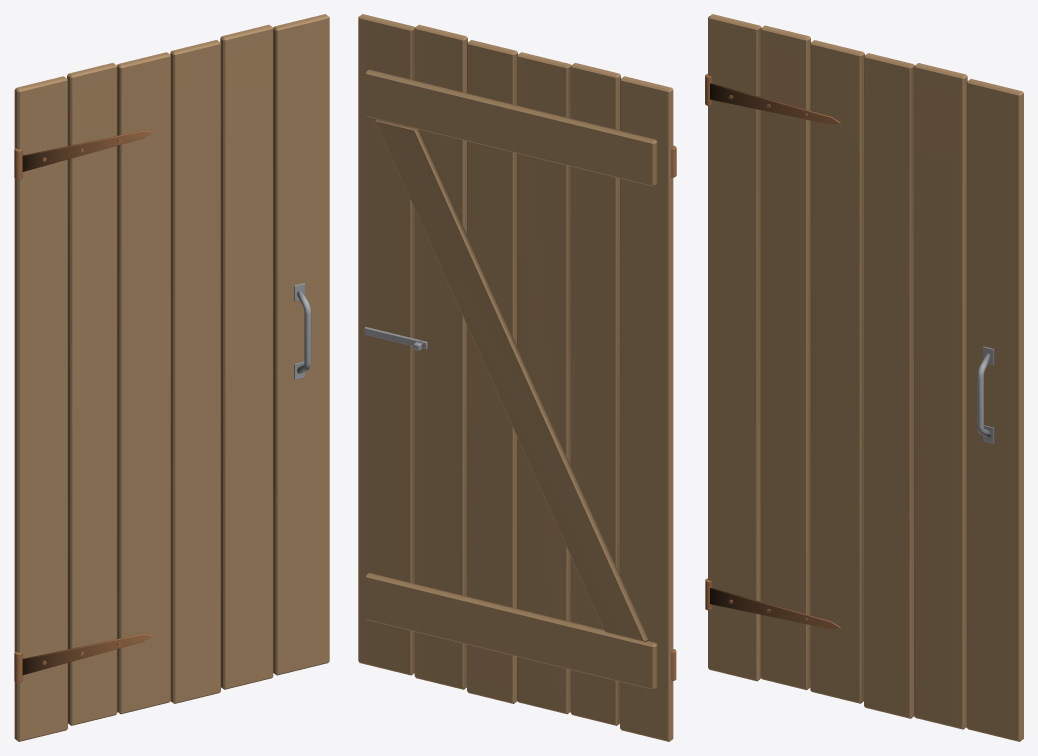
Rendered from door_shed.glb.
3 views of the same model, side by side, from view 1: azimuth 30°, elevation 25°; view 2: azimuth 150°, elevation 25°; view 3: azimuth 330°, elevation 25° (orthographic).
Parts seen in each view (by area): view 1: PART; view 2: PART; view 3: PART.
Boxes of the visible parts, x1,y1,x2,y2 form: PART: (14,14,329,741); PART: (358,14,676,741); PART: (705,14,1023,741).
Size of the model in its own units: 1.01 by 2 by 0.1365.
